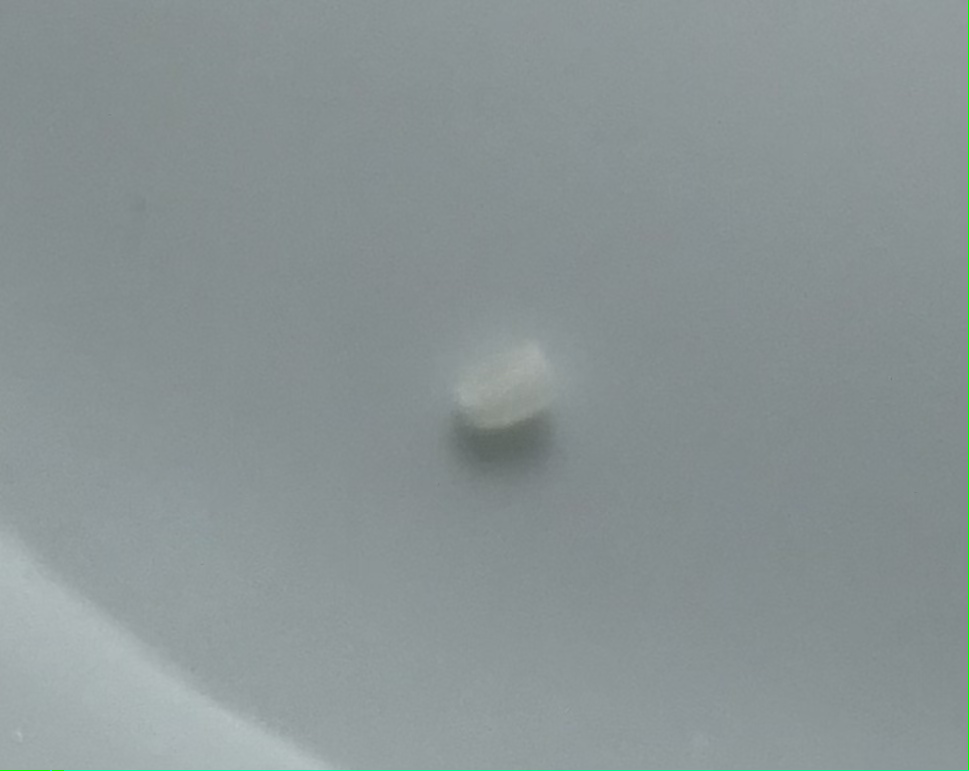Gao Tam: (448, 334, 571, 442)
